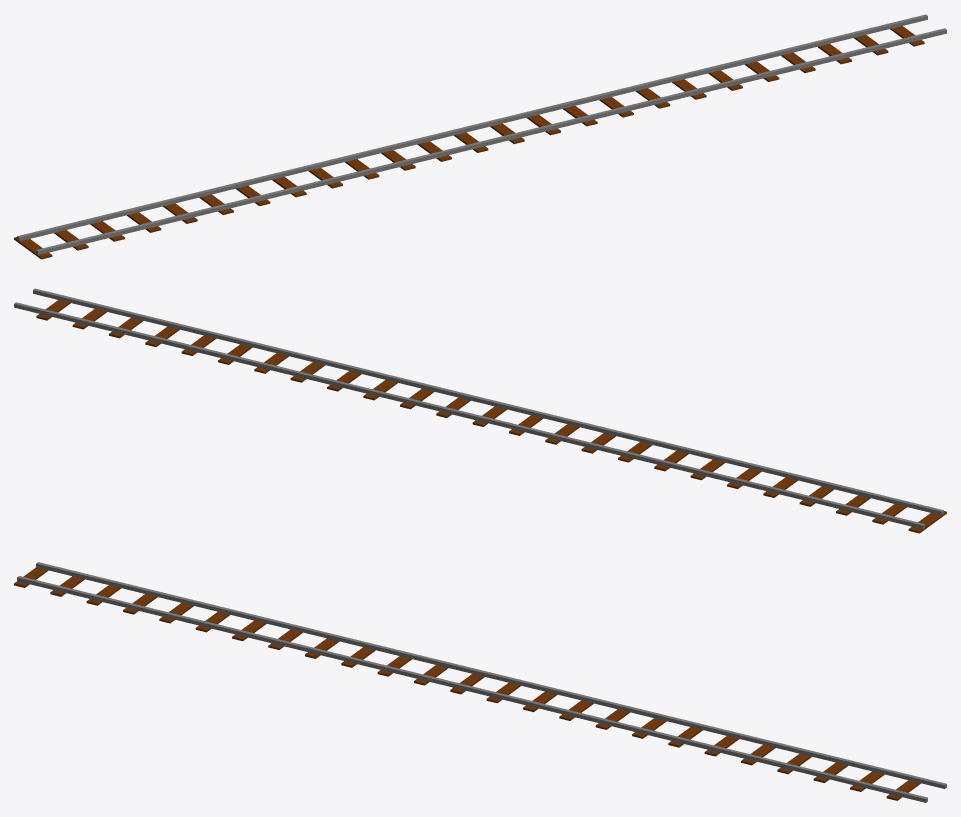
File: railroad_fix.fbx
The picture shows the model from 3 angles, top to bottom: view 1: azimuth 30°, elevation 25°; view 2: azimuth 150°, elevation 25°; view 3: azimuth 330°, elevation 25°; orthographic projection.
Parts seen in each view (by area): view 1: Box001, Box016; view 2: Box001, Box016; view 3: Box001, Box016.
Part boxes in pixels (x1,y1,x2,y2): Box001: [17, 14, 946, 255]; Box016: [14, 26, 924, 259]; Box001: [14, 288, 943, 529]; Box016: [36, 300, 946, 533]; Box001: [17, 562, 946, 802]; Box016: [14, 567, 920, 800].
Bounding box in the file's own units: 25 × 0.15 × 1.3.
